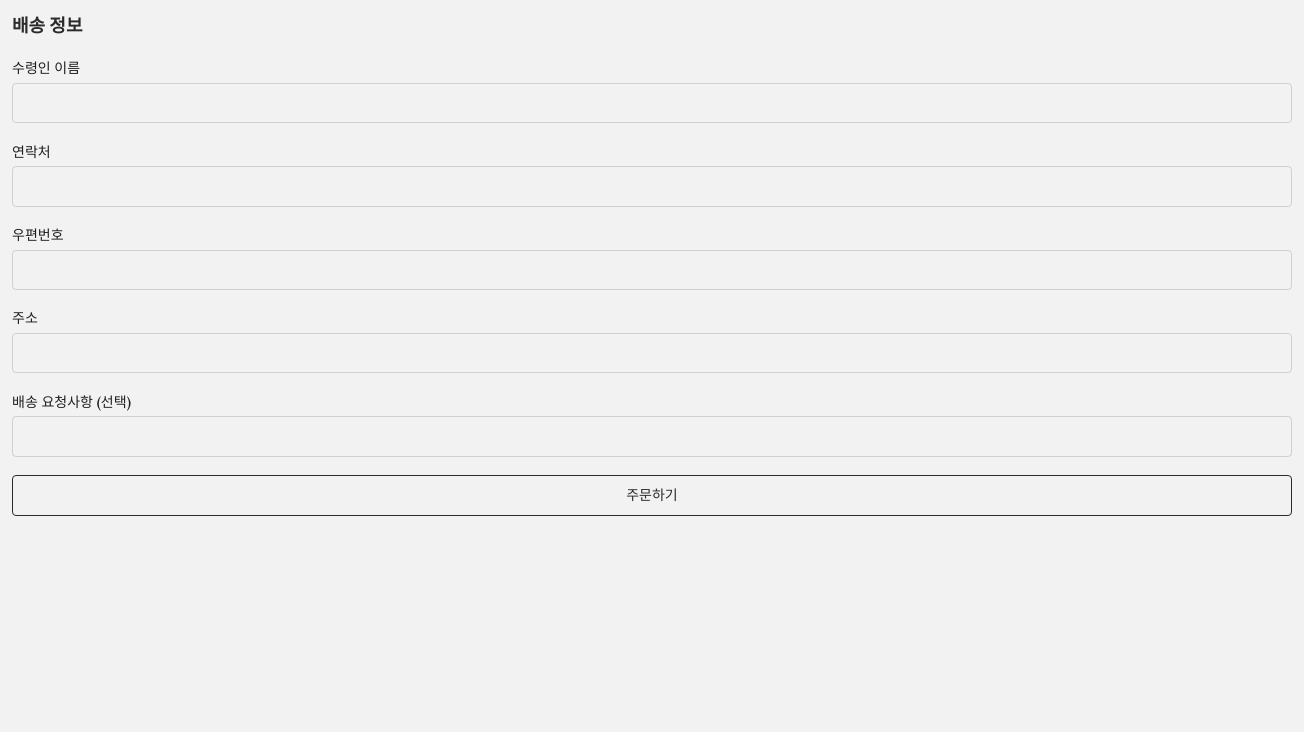
Test: SPEC-ORDER-001 — how a refusal reaches the shopper (design.md §8) › surfaces the NEW total when the price changed under the shopper
Type "홍길동" into the field labelled "수령인 이름".
click(652, 103); type("홍길동")  # box [12, 83, 1292, 123]
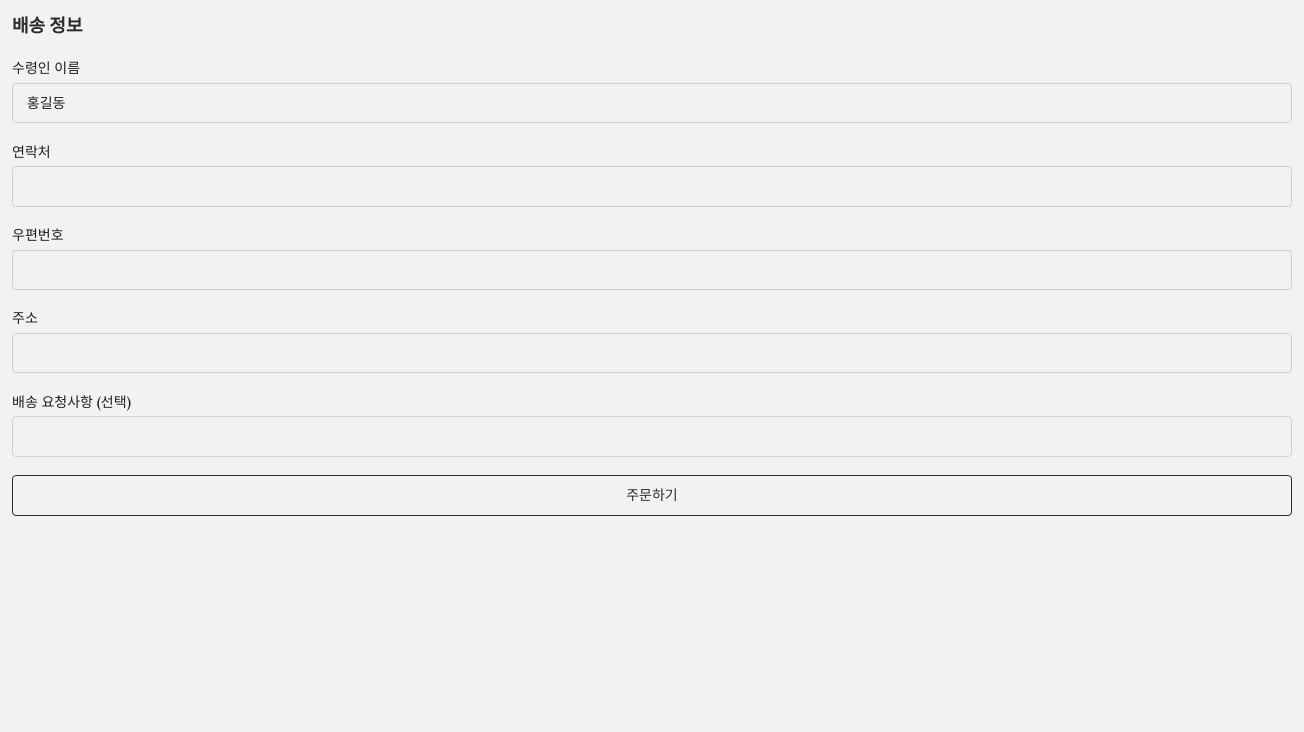
Type "010-1234-5678" into the field labelled "연락처".
click(652, 186); type("010-1234-5678")  # box [12, 166, 1292, 207]
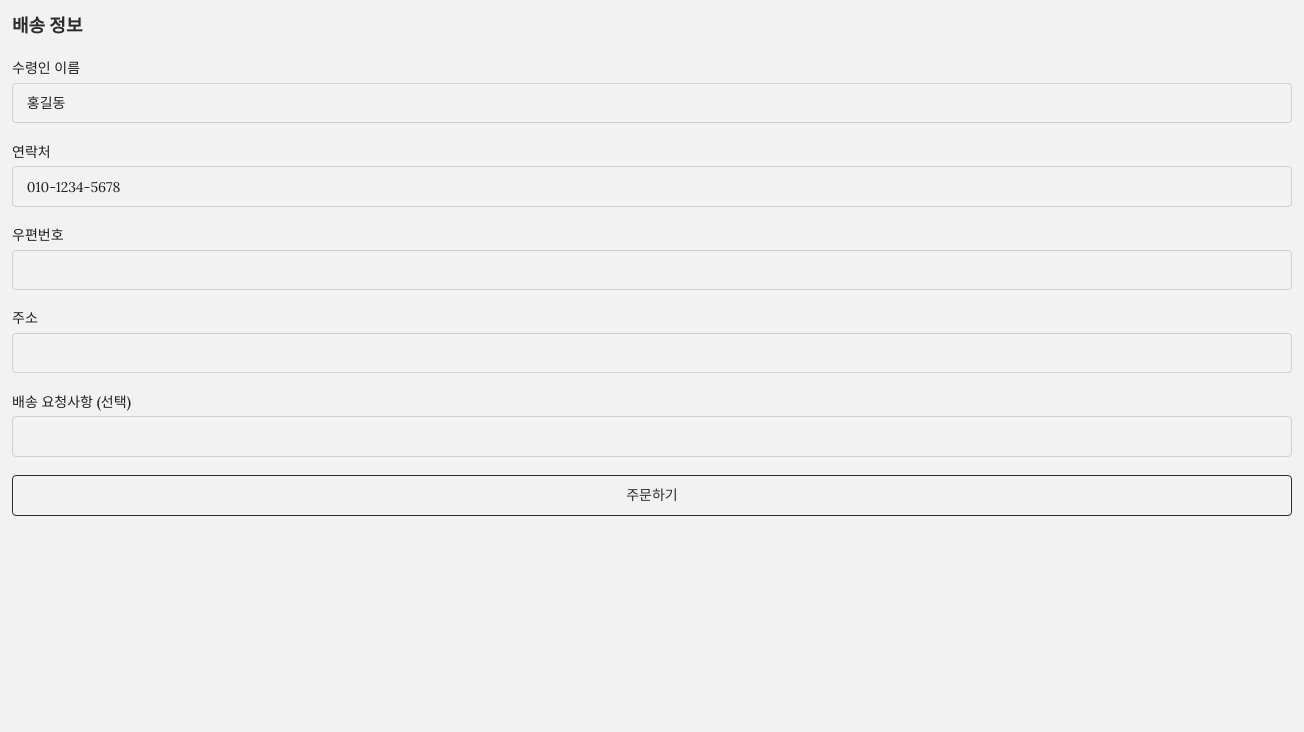
Type "06236" into the field labelled "우편번호".
click(652, 270); type("06236")  # box [12, 250, 1292, 290]
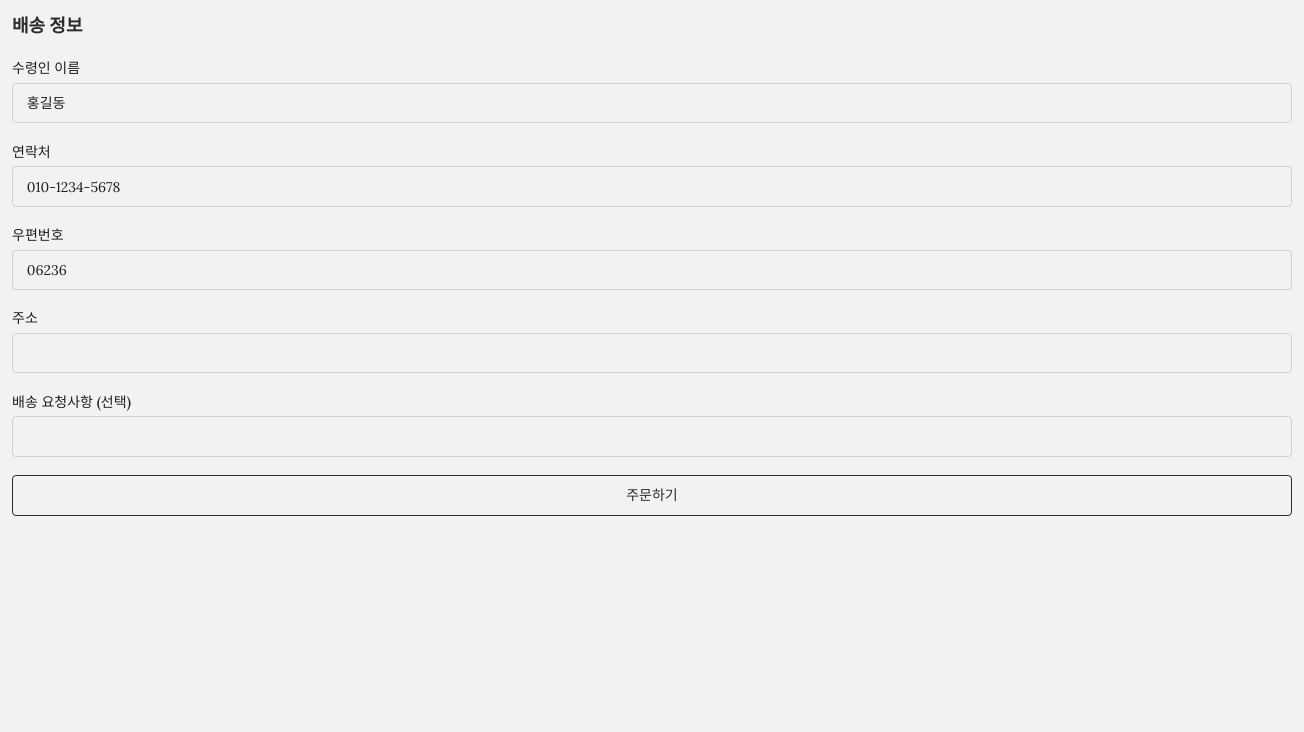
Type "서울시 강남구 테헤란로 1" into the field labelled "주소".
click(652, 353); type("서울시 강남구 테헤란로 1")  # box [12, 333, 1292, 374]
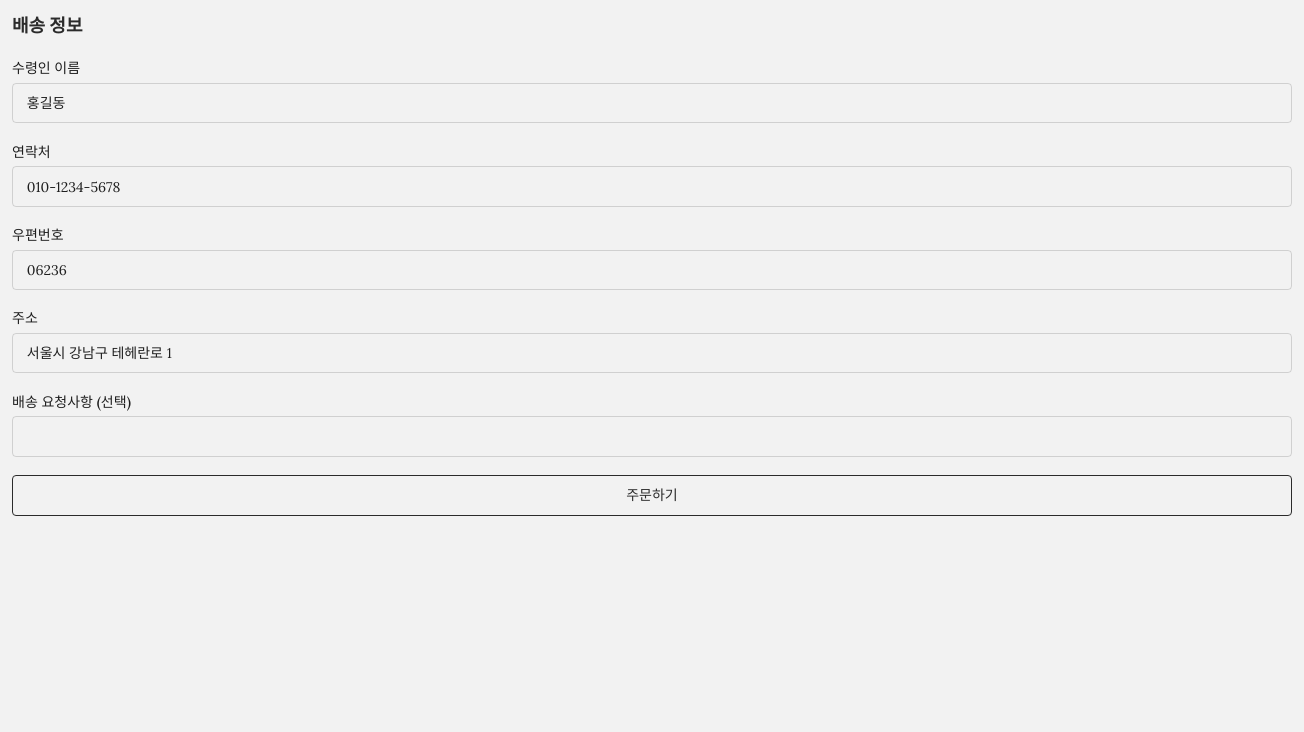
Click the button "주문하기".
click(652, 495)  # box [12, 475, 1292, 516]
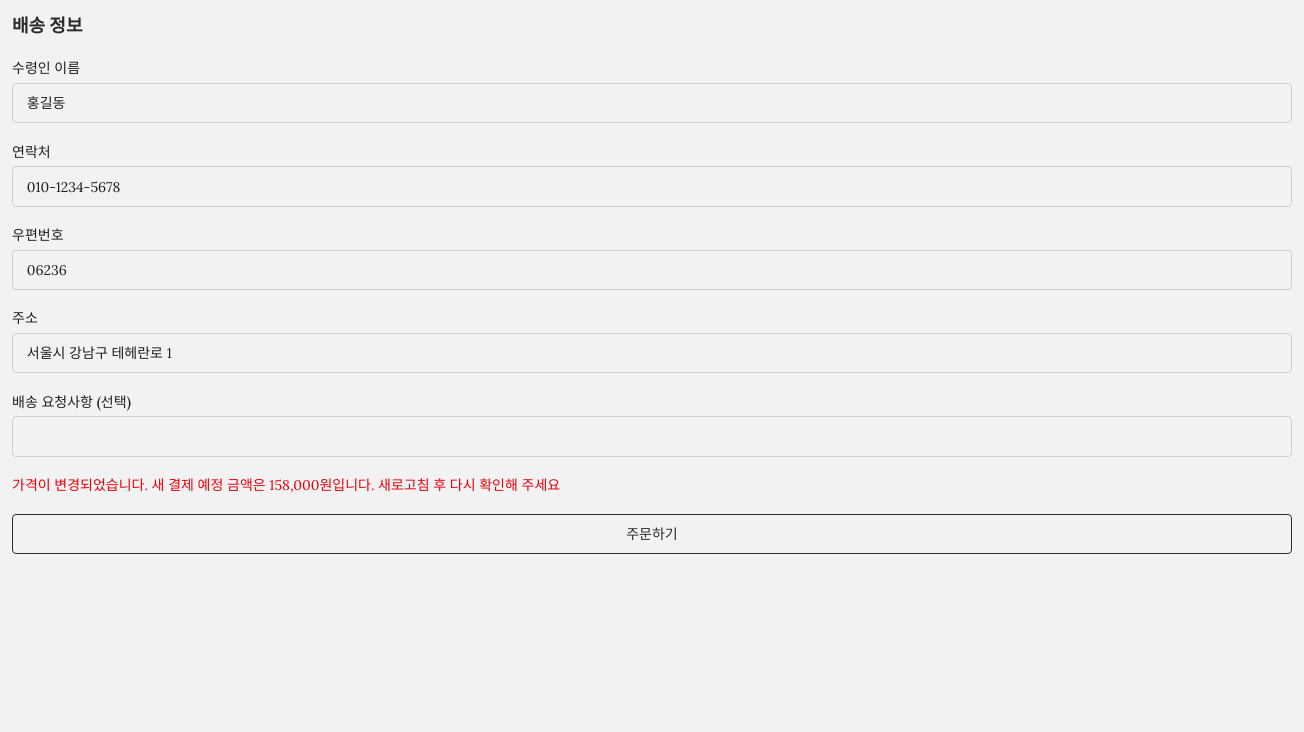
Expected: the message shows "158,000", [12, 476, 560, 494]
